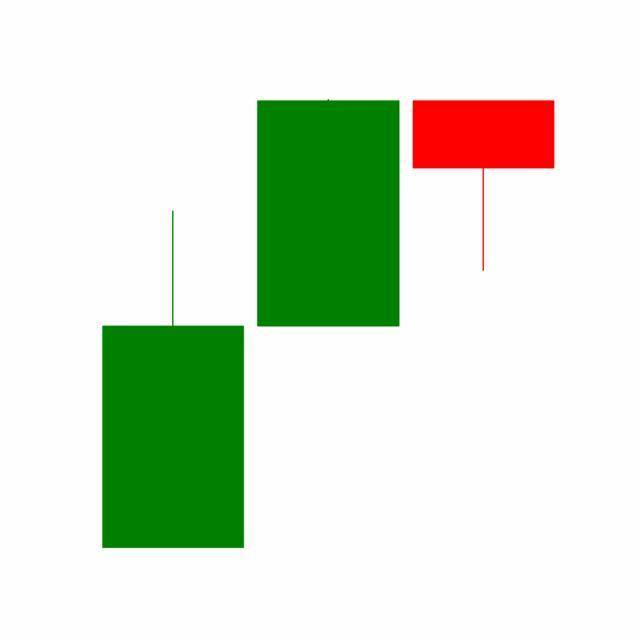Hanging Man: (406, 99, 562, 274)
